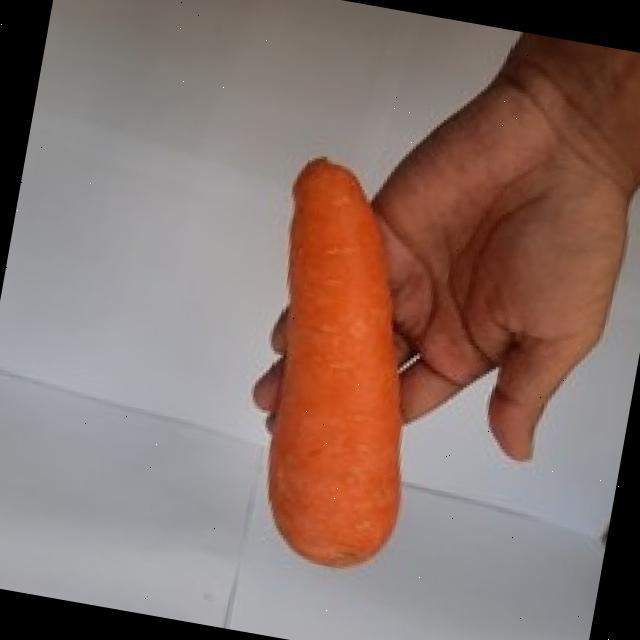carrot: (272, 164, 402, 570)
